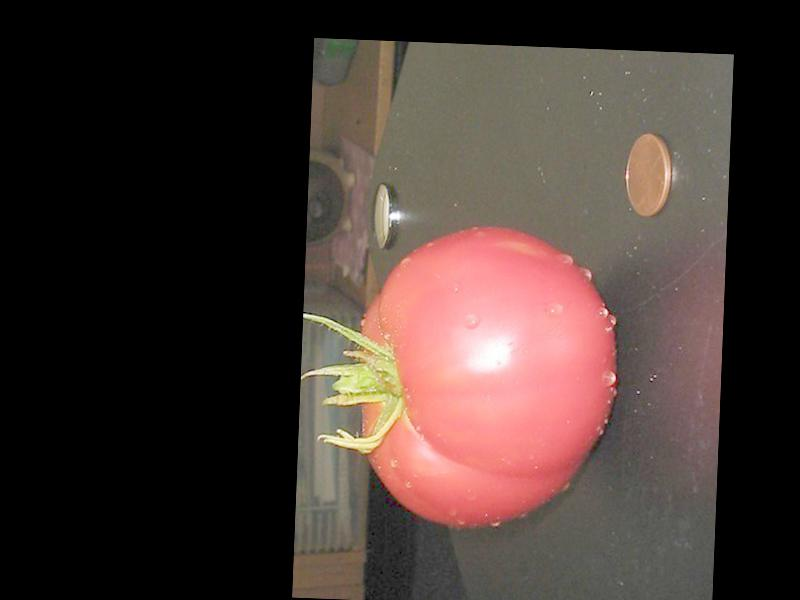Tomato: (352, 222, 621, 534)
